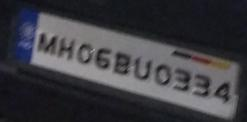0: (77, 38, 95, 68), (154, 61, 172, 85)
3: (194, 71, 212, 99), (173, 64, 191, 91)
6: (95, 44, 112, 70)
B: (114, 48, 132, 77)
H: (212, 75, 234, 105), (59, 34, 76, 62)
M: (37, 31, 59, 56)
U: (134, 51, 152, 82)
